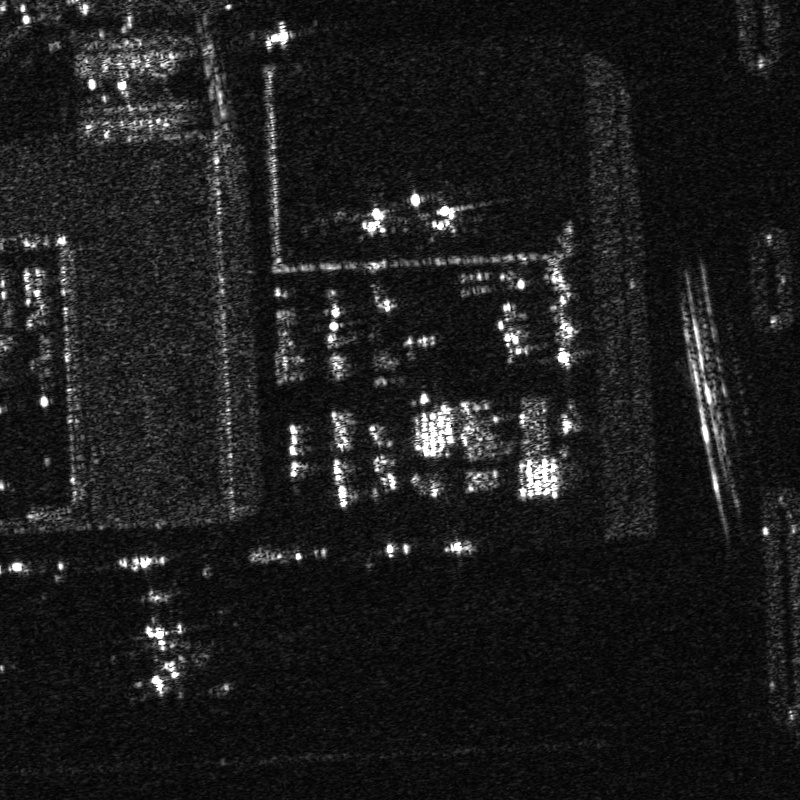ARJ21: (334, 194, 412, 241)
other: (107, 582, 226, 700), (416, 193, 489, 238)
